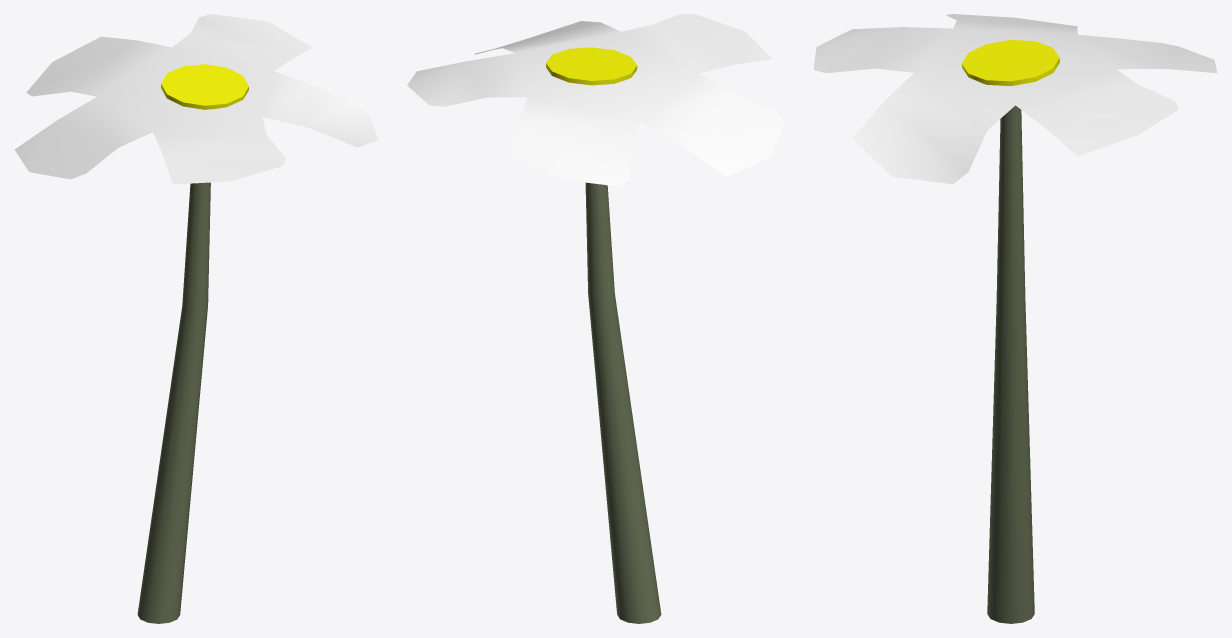
The model's file is witte bloem.fbx.
3 views of the same model, side by side, from view 1: azimuth 30°, elevation 25°; view 2: azimuth 150°, elevation 25°; view 3: azimuth 270°, elevation 25° (orthographic). The views are drawn at different scales.
Visible parts, largest first — view 1: polySurface143; view 2: polySurface143; view 3: polySurface143.
Boxes of the visible parts, <box> form: polySurface143: <box>14,14,378,623</box>; polySurface143: <box>407,14,784,623</box>; polySurface143: <box>813,14,1217,623</box>.
Size of the model in its own units: 0.2732 by 0.4364 by 0.2749.
